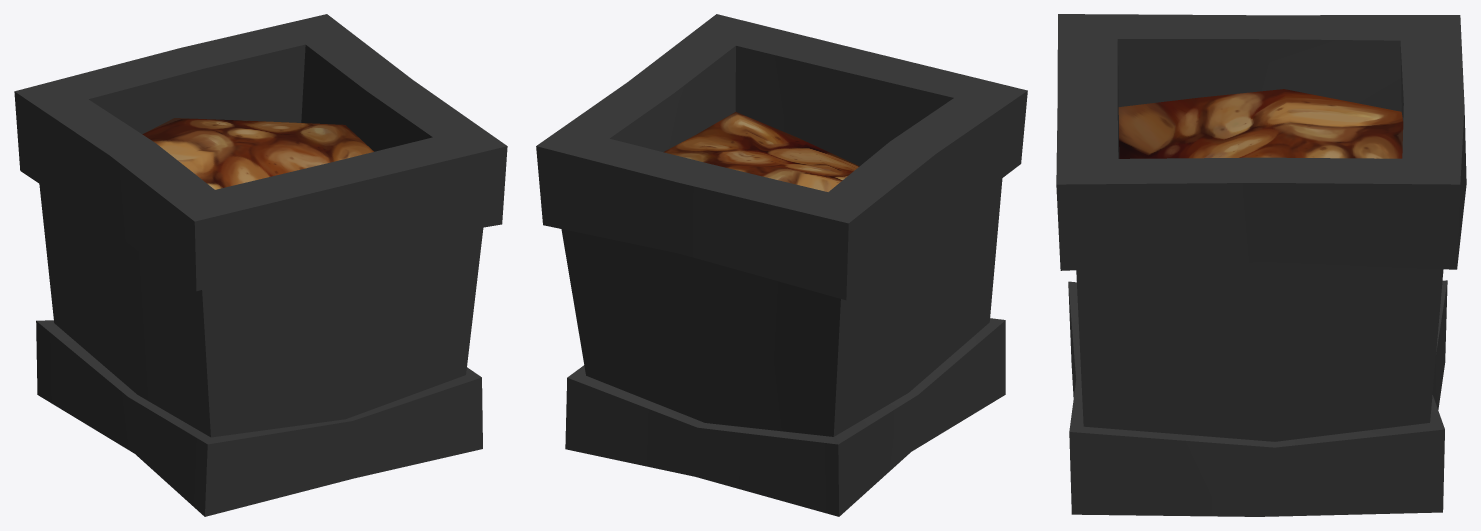
The model's file is SM_PROP_box_02.FBX.
3 renders of one model, left to right at view 1: azimuth 30°, elevation 25°; view 2: azimuth 150°, elevation 25°; view 3: azimuth 270°, elevation 25°, orthographic. The views are drawn at different scales.
Visible parts, largest first — view 1: SM_PROP_box_02; view 2: SM_PROP_box_02; view 3: SM_PROP_box_02.
Boxes of the visible parts, x1,y1,x2,y2 form: SM_PROP_box_02: [14, 14, 507, 516]; SM_PROP_box_02: [536, 14, 1027, 516]; SM_PROP_box_02: [1056, 14, 1466, 516].
Bounding box in the file's own units: 90.53 × 91.94 × 84.5.
